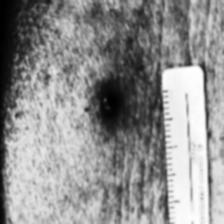Unclassified: (91, 86, 117, 128)
